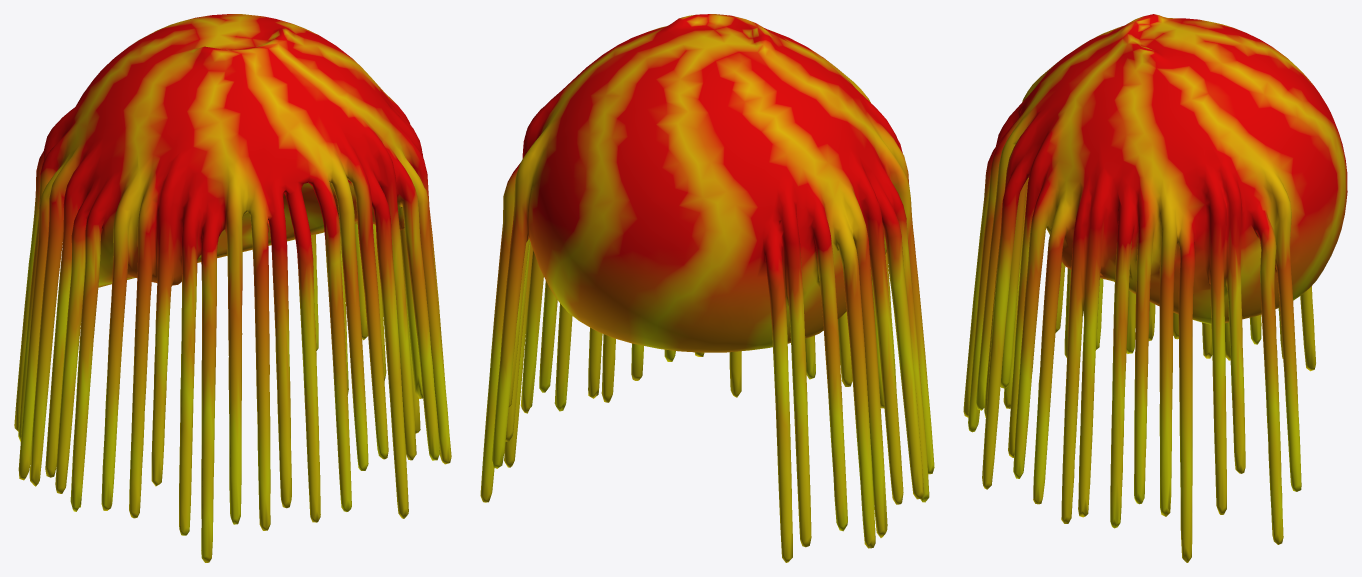
File: box-braids.glb
3 renders of one model, left to right at view 1: azimuth 30°, elevation 25°; view 2: azimuth 150°, elevation 25°; view 3: azimuth 270°, elevation 25°, orthographic. The views are drawn at different scales.
Parts seen in each view (by area): view 1: part; view 2: part; view 3: part.
Boxes of the visible parts, box(x1,y1,x2,y2) form: part: box(14, 14, 451, 562); part: box(480, 14, 934, 562); part: box(963, 14, 1347, 562).
Size of the model in its own units: 2.61 by 2.96 by 2.34.
